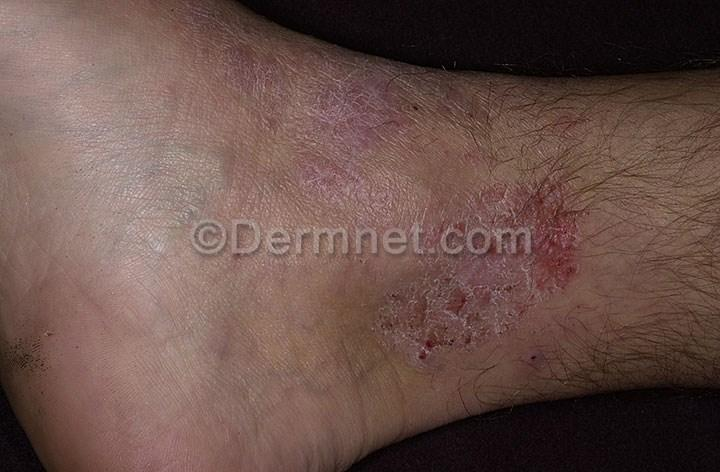Eczema: (369, 170, 645, 422), (254, 55, 440, 185), (159, 0, 254, 128)
